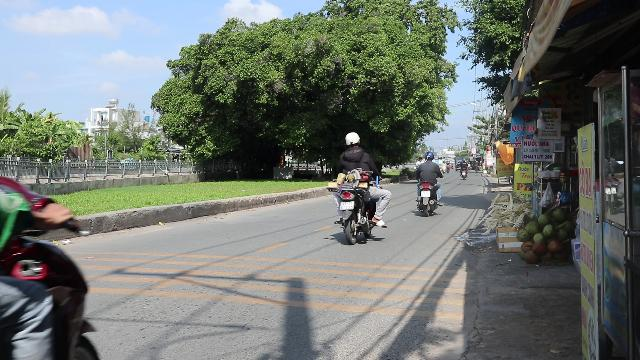helmet: (343, 132, 361, 148)
licenseplate: (340, 200, 354, 209)
motorcyclist: (328, 131, 390, 243)
